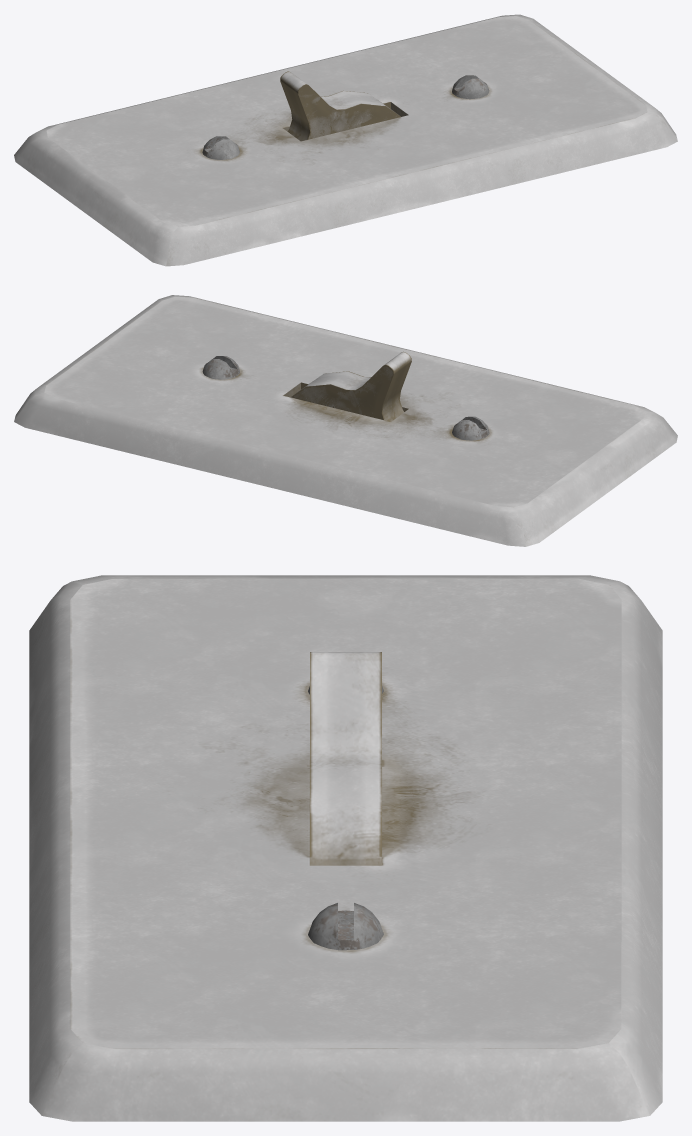
File: old_light_switch.glb
3 views of the same model, one above another, from view 1: azimuth 30°, elevation 25°; view 2: azimuth 150°, elevation 25°; view 3: azimuth 270°, elevation 25° (orthographic). The views are drawn at different scales.
Parts seen in each view (by area): view 1: Object_2; view 2: Object_2; view 3: Object_2.
Part boxes in pixels (left/top/right/bottom): Object_2: left=14, top=14, right=677, bottom=266; Object_2: left=14, top=295, right=677, bottom=546; Object_2: left=29, top=575, right=662, bottom=1121.
Size of the model in its own units: 2.1 by 0.5608 by 1.1.
Materials: 1 (1 with a texture image).
